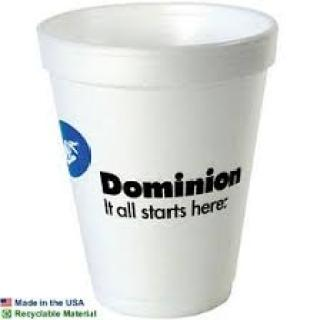PAPER: (36, 2, 277, 317)
